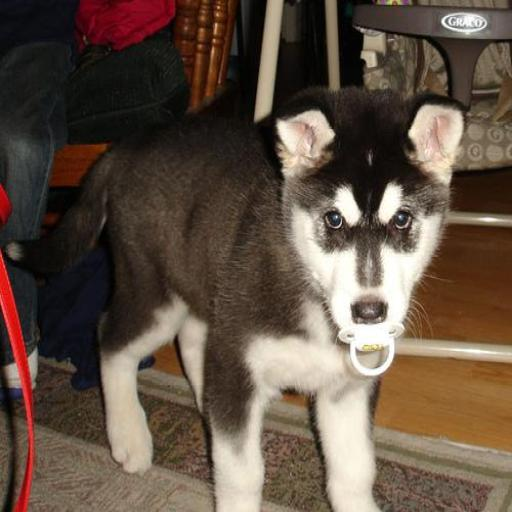dog_face: (276, 88, 459, 346)
